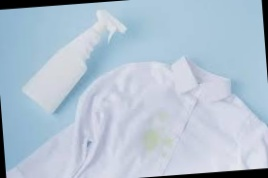oil: (139, 127, 177, 157)
